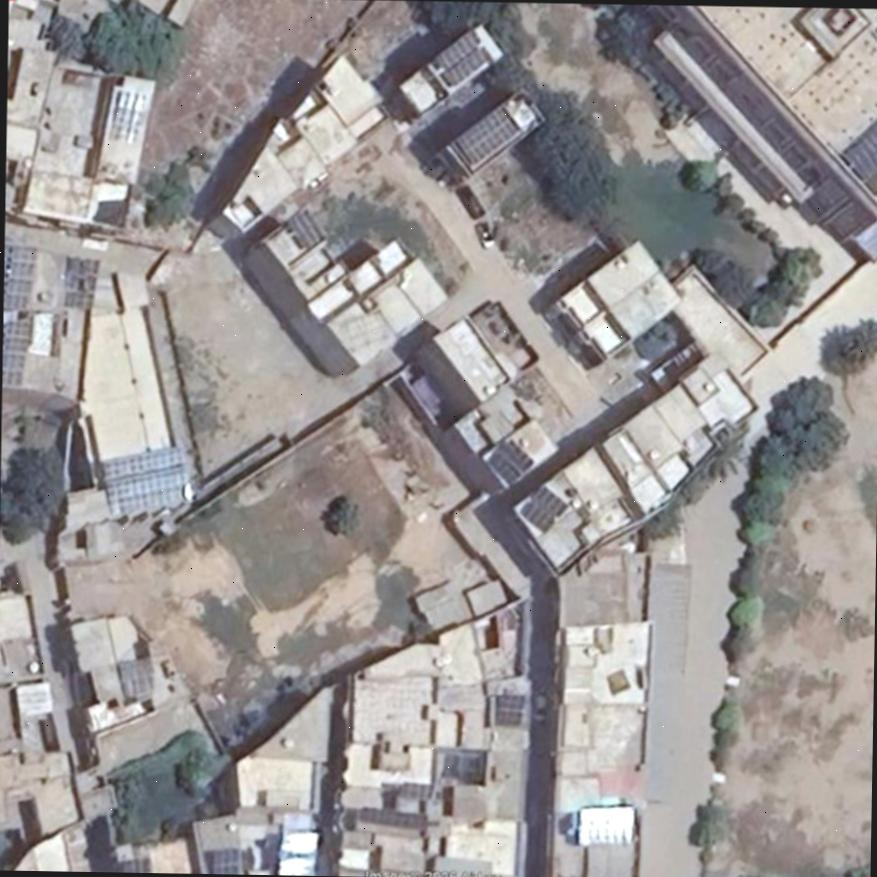Solarpanel: (102, 445, 185, 514), (456, 105, 517, 164), (577, 803, 633, 848), (437, 31, 485, 83), (843, 115, 877, 177), (108, 87, 147, 141), (2, 244, 33, 310), (276, 827, 318, 874), (520, 486, 564, 529), (490, 440, 529, 482), (1, 318, 26, 383), (359, 807, 426, 829), (492, 693, 524, 724), (211, 844, 237, 872)
